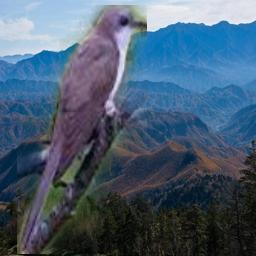Cuckoo: (17, 5, 147, 254)
